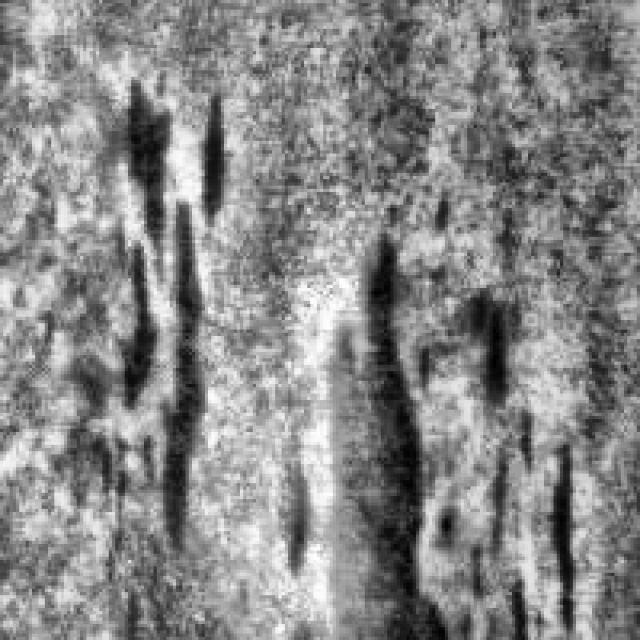Patches: (64, 70, 230, 541), (268, 218, 438, 630), (428, 390, 580, 628), (452, 272, 518, 416)
